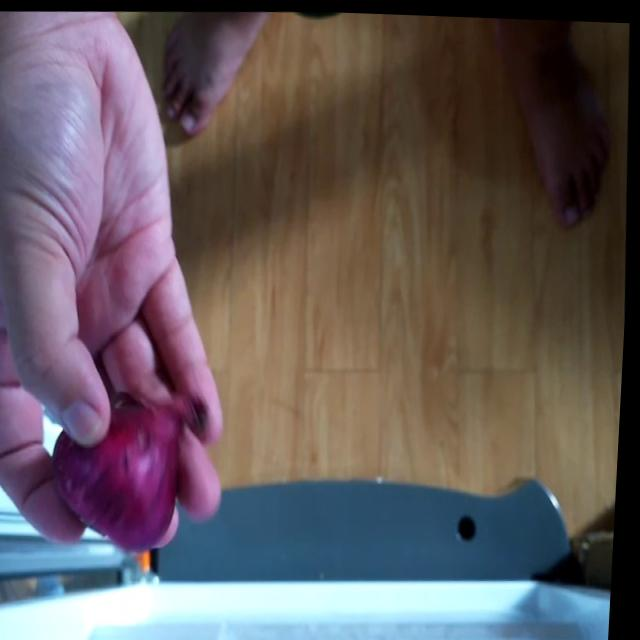onion: (54, 384, 200, 561)
